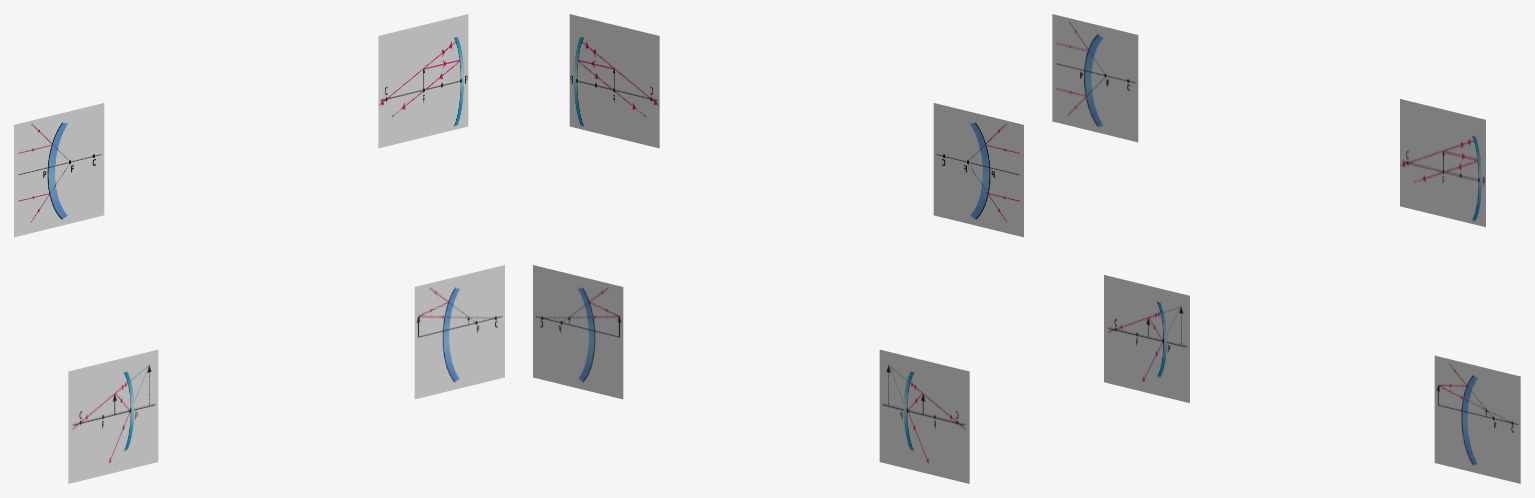
Rendered from con_case5678.fbx.
3 renders of one model, left to right at view 1: azimuth 30°, elevation 25°; view 2: azimuth 150°, elevation 25°; view 3: azimuth 330°, elevation 25°, orthographic. The views are drawn at different scales.
Parts seen in each view (by area): view 1: parll_concave_2, parll_concave_4, parll_concave_Correct, parll_concave_3; view 2: parll_concave_2, parll_concave_4, parll_concave_Correct, parll_concave_3; view 3: parll_concave_Correct, parll_concave_3, parll_concave_2, parll_concave_4.
Boxes of the visible parts, x1=… form: parll_concave_2: x1=378, y1=14, x2=468, y2=148; parll_concave_4: x1=68, y1=349, x2=158, y2=483; parll_concave_Correct: x1=14, y1=103, x2=104, y2=237; parll_concave_3: x1=414, y1=265, x2=504, y2=399; parll_concave_2: x1=569, y1=14, x2=659, y2=148; parll_concave_4: x1=879, y1=349, x2=969, y2=483; parll_concave_Correct: x1=933, y1=103, x2=1023, y2=237; parll_concave_3: x1=533, y1=265, x2=623, y2=399; parll_concave_Correct: x1=1052, y1=14, x2=1138, y2=142; parll_concave_3: x1=1434, y1=355, x2=1520, y2=483; parll_concave_2: x1=1400, y1=99, x2=1485, y2=227; parll_concave_4: x1=1104, y1=275, x2=1189, y2=402.
Size of the model in its own units: 410 by 297 by 0.
1 material, 1 textured.
